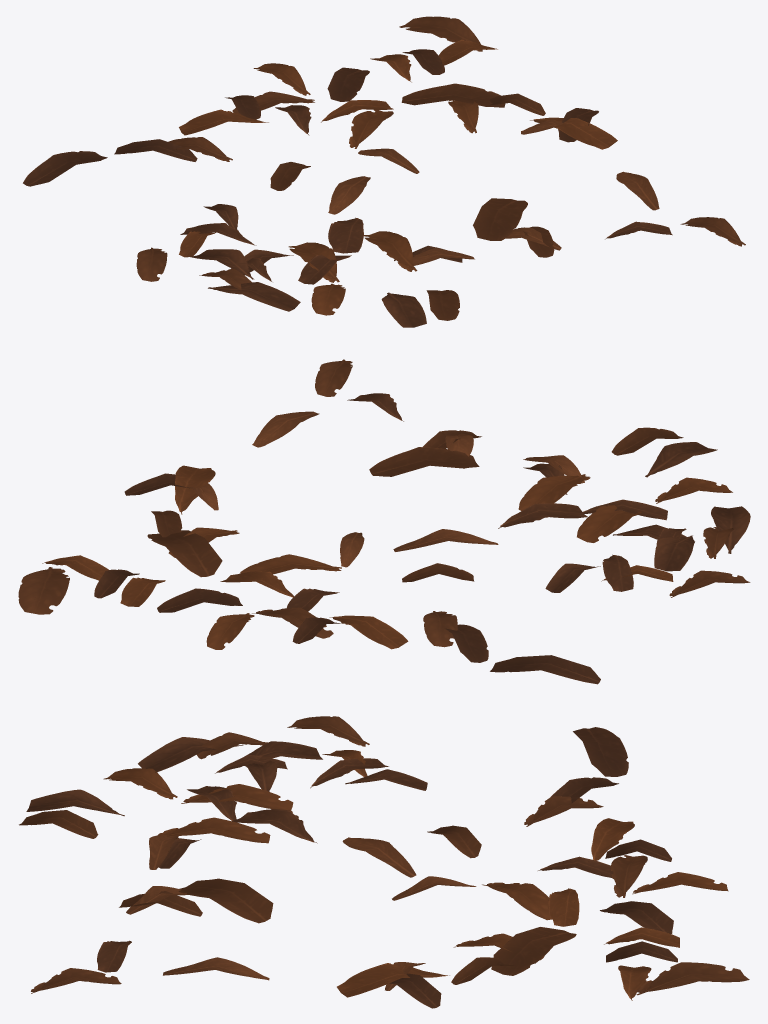
File: RF3_Dead_Leaf_Litter.fbx
3 renders of one model, top to bottom at view 1: azimuth 30°, elevation 25°; view 2: azimuth 150°, elevation 25°; view 3: azimuth 270°, elevation 25°, orthographic. The views are drawn at different scales.
Visible parts, largest first — view 1: RF3_Dead_Leaf_Litter; view 2: RF3_Dead_Leaf_Litter; view 3: RF3_Dead_Leaf_Litter.
Boxes of the visible parts, <box> form: RF3_Dead_Leaf_Litter: <box>23,16,745,327</box>; RF3_Dead_Leaf_Litter: <box>18,359,750,684</box>; RF3_Dead_Leaf_Litter: <box>19,716,749,1008</box>.
Bounding box in the file's own units: 152 × 4.05 × 161.
